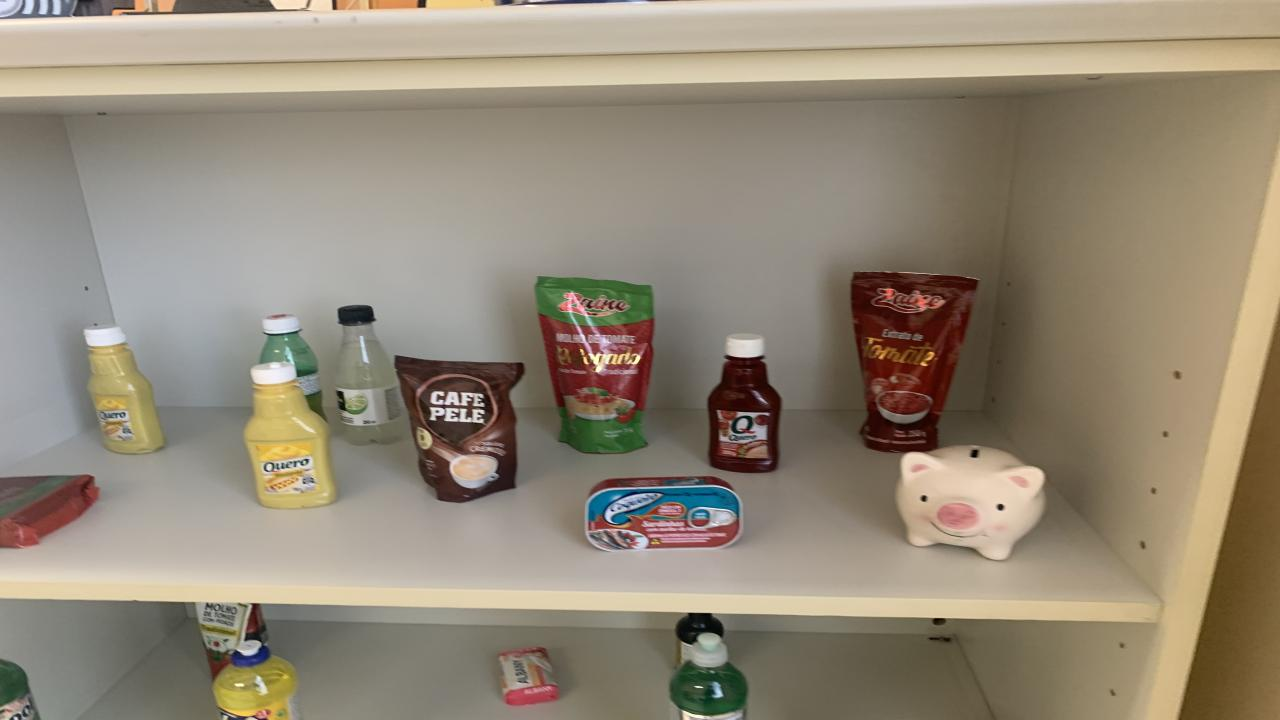Coffee-Pantry_Items: (395, 356, 525, 502)
Detergent-Cleanup_Items: (212, 639, 300, 720), (670, 632, 748, 720), (0, 658, 40, 720)
English_Sauce-Pantry_Items: (675, 613, 722, 666)
Guarana-Drinks: (260, 315, 325, 418)
Guava-Snacks: (0, 474, 100, 548)
Ketchup-Pantry_Items: (708, 334, 782, 472)
Mustard-Pantry_Items: (245, 362, 338, 508), (85, 324, 165, 454)
Pig_Safe-Miscellaneous: (895, 444, 1045, 561)
Soap-Cleanup_Items: (498, 647, 560, 705)
Soda-Drinks: (335, 306, 405, 444)
Tomato_Sauce-Pantry_Items: (850, 272, 978, 452), (535, 278, 655, 454), (195, 602, 268, 679)
Tuna_Can-Pantry_Items: (585, 476, 742, 551)
